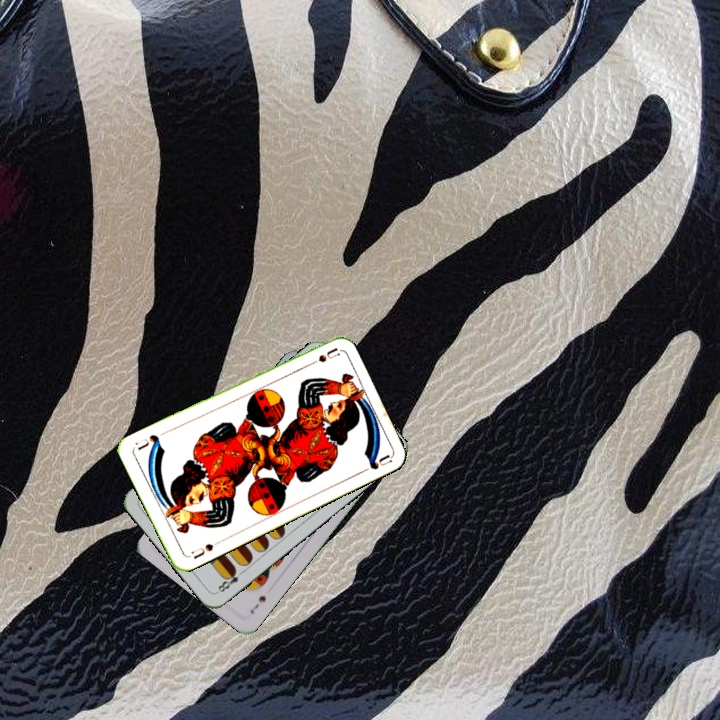E8: (213, 565, 247, 595)
S7: (246, 591, 269, 617)
SU: (301, 344, 341, 370), (185, 537, 223, 561)
